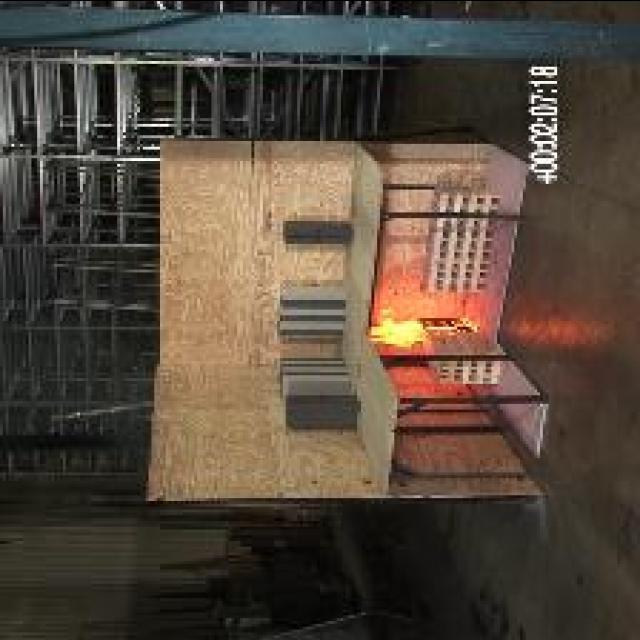Fire: (366, 307, 426, 344)
